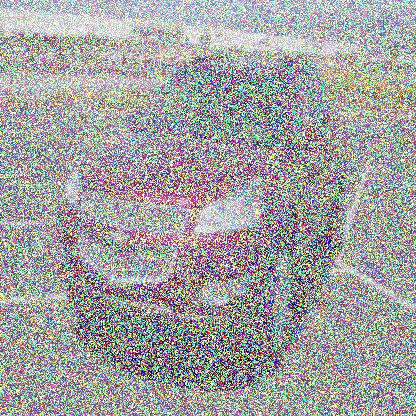Vehicle: (56, 58, 346, 374)
